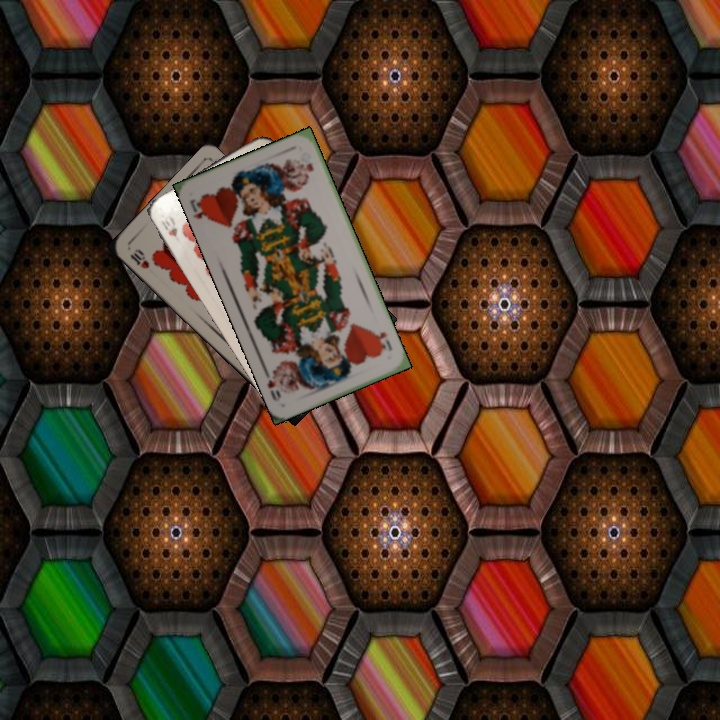H10: (126, 245, 152, 271), (157, 211, 180, 239)
HO: (186, 191, 213, 223), (370, 326, 395, 354)
